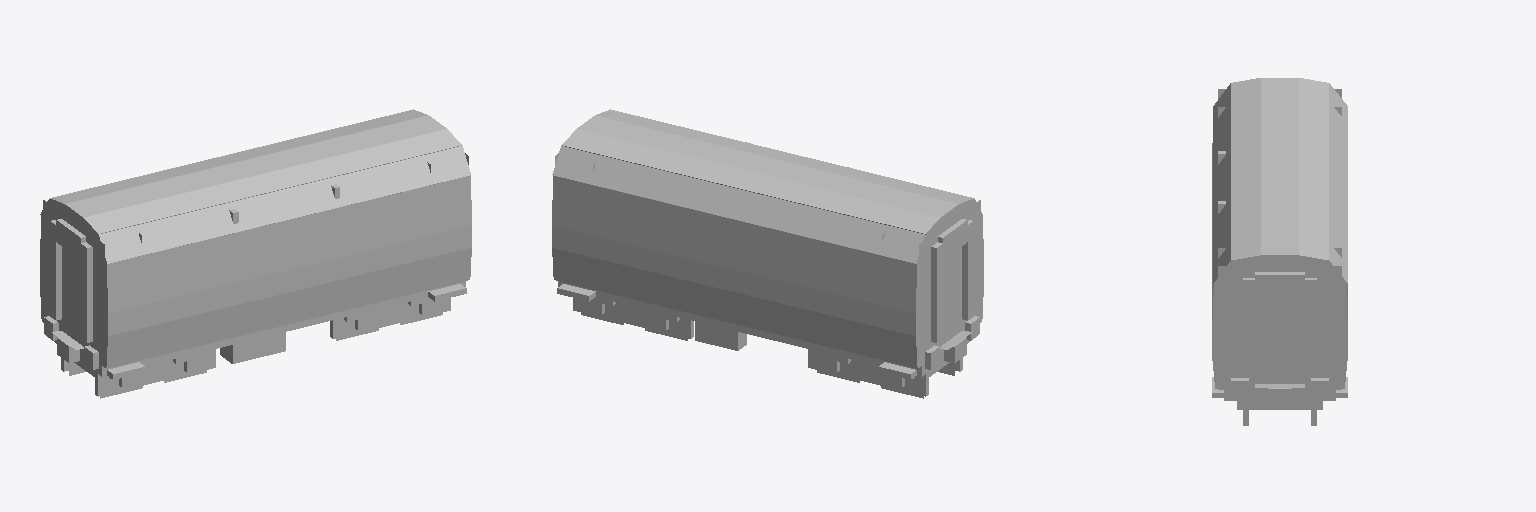
The model's file is ModelPassenger6.obj.
3 views of the same model, side by side, from view 1: azimuth 30°, elevation 25°; view 2: azimuth 150°, elevation 25°; view 3: azimuth 270°, elevation 25° (orthographic).
Parts seen in each view (by area): view 1: box7, box73, box90, box89, box72, box69, box64, box70, box65, box23, box8, box (+3 smaller); view 2: box15, box71, box14, box13, box70, box69, box64, box72, box65, box50, box6, box31 (+3 smaller); view 3: box75, box69, box70, box72, box71, box73, box38, box36, box37, box65.
Part boxes in pixels (left/top/right/bottom): box7: left=112, top=177, right=466, bottom=312; box73: left=94, top=146, right=470, bottom=264; box90: left=112, top=249, right=466, bottom=366; box89: left=113, top=227, right=466, bottom=334; box72: left=82, top=129, right=461, bottom=239; box69: left=65, top=115, right=446, bottom=226; box64: left=43, top=200, right=104, bottom=367; box70: left=50, top=109, right=426, bottom=215; box65: left=48, top=281, right=465, bottom=376; box23: left=95, top=351, right=215, bottom=396; box8: left=330, top=298, right=450, bottom=338; box: left=220, top=332, right=285, bottom=363; box15: left=557, top=177, right=911, bottom=312; box71: left=552, top=146, right=925, bottom=264; box14: left=557, top=249, right=911, bottom=366; box13: left=557, top=227, right=910, bottom=334; box70: left=562, top=129, right=941, bottom=241; box69: left=577, top=115, right=958, bottom=226; box64: left=919, top=200, right=980, bottom=366; box72: left=597, top=109, right=973, bottom=215; box65: left=558, top=281, right=975, bottom=376; box50: left=808, top=351, right=928, bottom=396; box6: left=573, top=298, right=693, bottom=338; box31: left=931, top=242, right=942, bottom=342; box75: left=1218, top=266, right=1341, bottom=389; box69: left=1261, top=78, right=1298, bottom=265; box70: left=1296, top=78, right=1328, bottom=271; box72: left=1231, top=78, right=1263, bottom=271; box71: left=1323, top=83, right=1347, bottom=289; box73: left=1213, top=83, right=1239, bottom=289; box38: left=1255, top=272, right=1304, bottom=296; box36: left=1305, top=278, right=1316, bottom=374; box37: left=1243, top=278, right=1254, bottom=374; box65: left=1224, top=390, right=1335, bottom=400.
Bounding box in the file's own units: 4.5 × 2 × 1.38.